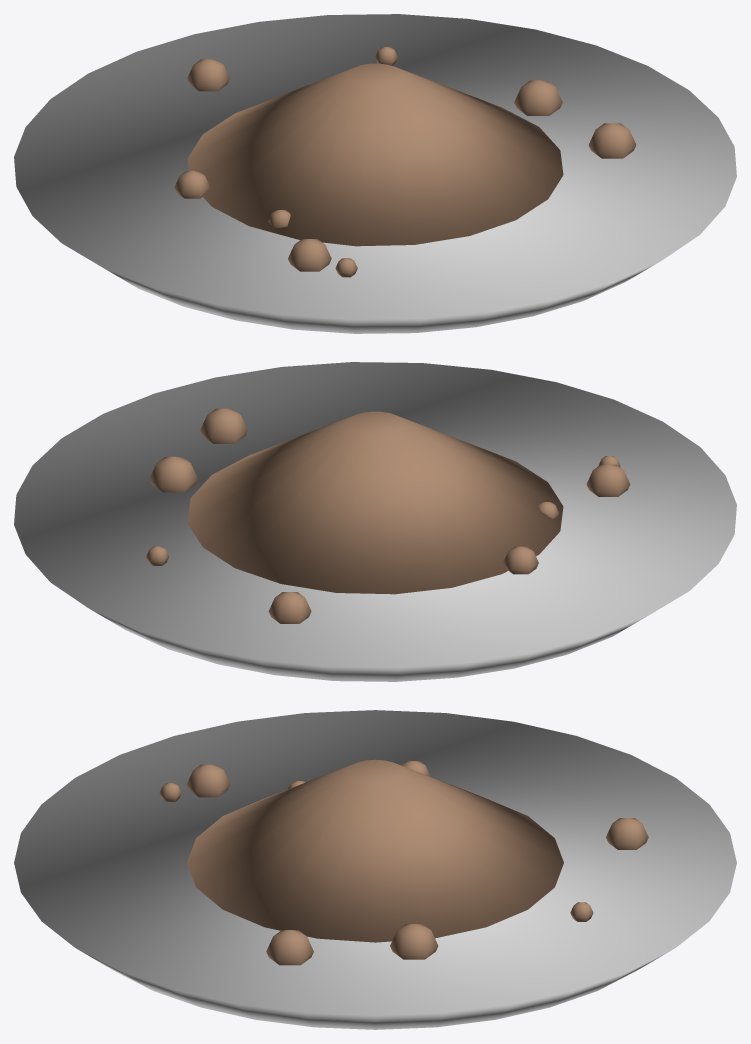
The model's file is sample_cocoa.glb.
3 views of the same model, one above another, from view 1: azimuth 30°, elevation 25°; view 2: azimuth 150°, elevation 25°; view 3: azimuth 270°, elevation 25° (orthographic).
Parts seen in each view (by area): view 1: saucer, cocoa, cocoa_grain2, cocoa_grain1, cocoa_grain0, cocoa_grain6, cocoa_grain4; view 2: saucer, cocoa, cocoa_grain2, cocoa_grain1, cocoa_grain0, cocoa_grain6, cocoa_grain4; view 3: saucer, cocoa, cocoa_grain2, cocoa_grain1, cocoa_grain0, cocoa_grain6.
Boxes of the visible parts, x1,y1,x2,y2 form: saucer: (14,14,736,333); cocoa: (187,63,563,246); cocoa_grain2: (514,80,562,115); cocoa_grain1: (588,123,636,158); cocoa_grain0: (288,239,331,271); cocoa_grain6: (187,59,229,91); cocoa_grain4: (174,171,210,198); saucer: (14,362,736,681); cocoa: (187,411,563,594); cocoa_grain2: (149,456,197,492); cocoa_grain1: (200,408,247,443); cocoa_grain0: (586,464,630,496); cocoa_grain6: (268,592,311,623); cocoa_grain4: (503,546,538,574); saucer: (14,710,736,1029); cocoa: (187,759,563,942); cocoa_grain2: (390,924,438,959); cocoa_grain1: (266,930,313,965); cocoa_grain0: (186,764,230,797); cocoa_grain6: (606,818,648,849).
Size of the model in its own units: 0.115 by 0.022 by 0.115.
